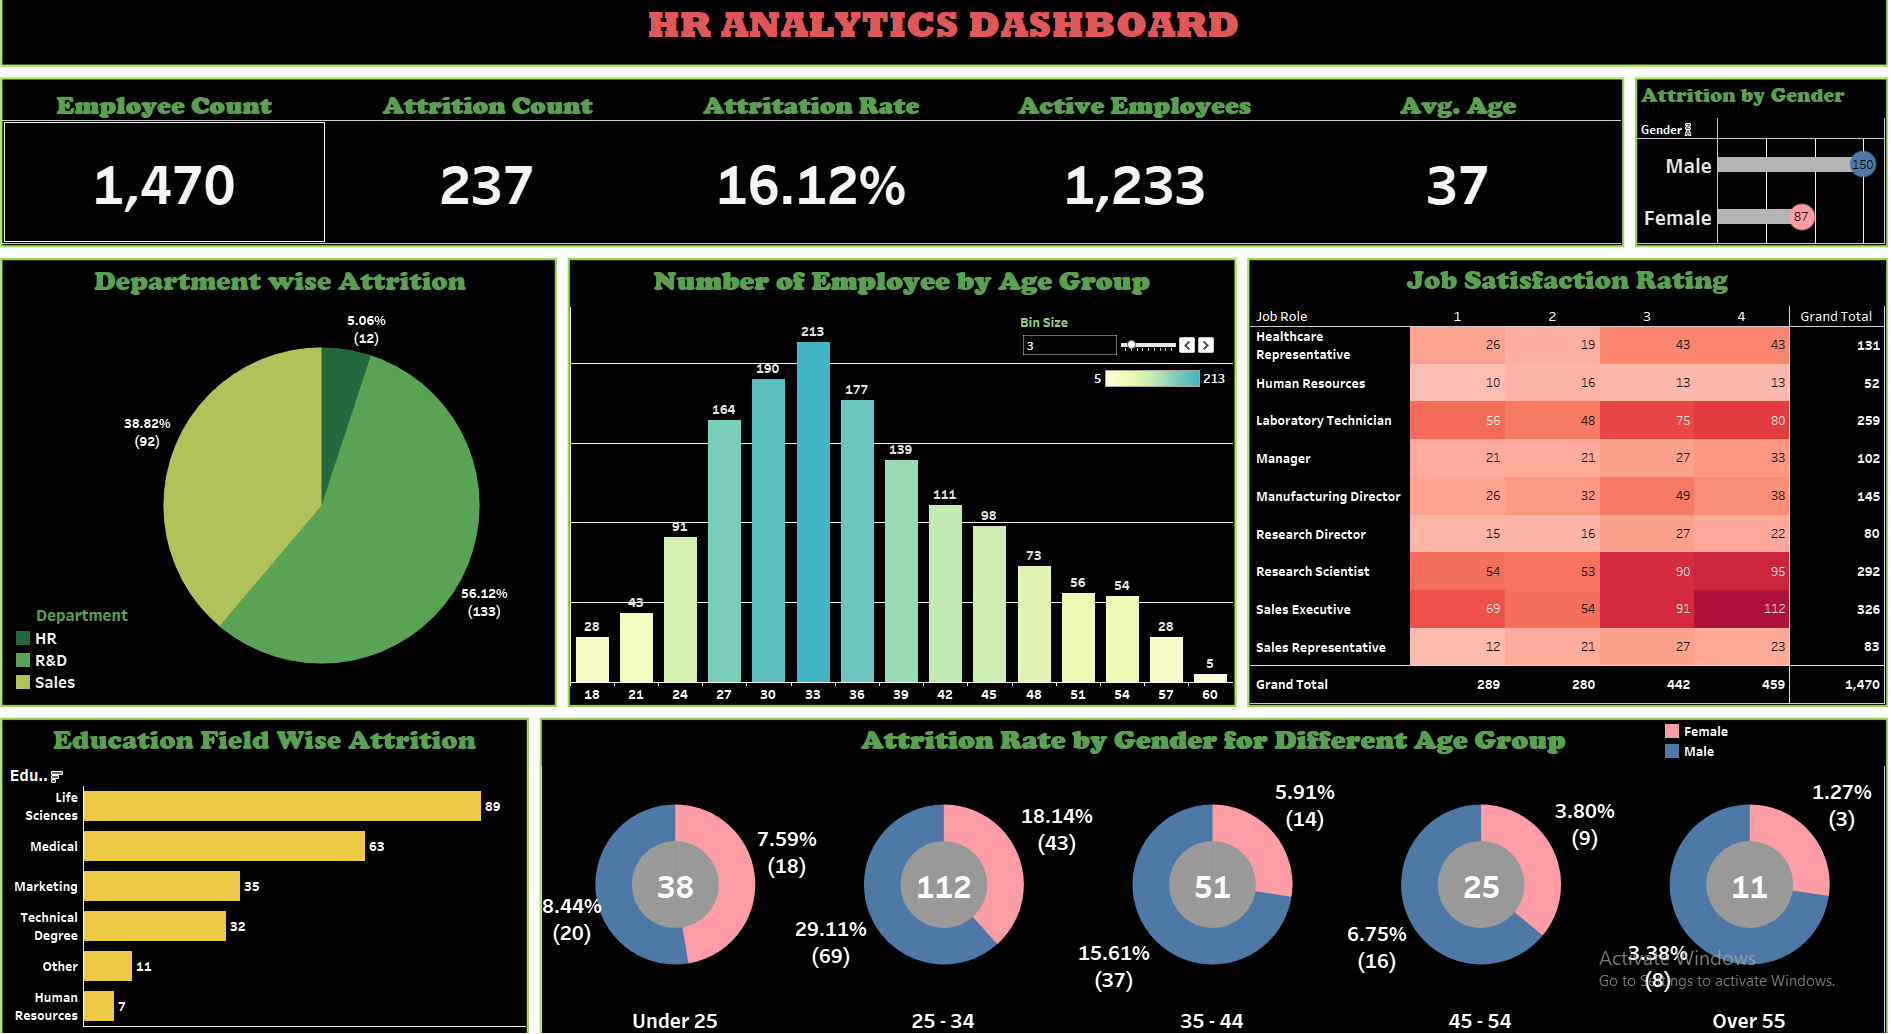

The page's visual inventory and layout, read from the dashboard file:
{"tool":"tableau","page":{"name":"HR Analytics","canvas":[1920,1080],"ordinal":0},"visuals":[{"type":"image","param":"C:/Users/iKkYu/Pictures/HR analysis.png","box":[8,8,1904,1064]},{"type":"text","box":[20,17,1879,75]},{"type":"worksheet","title":"KPI","mark":"Automatic","box":[18,110,1619,164]},{"type":"worksheet","title":"Sheet 2","mark":"Automatic","rows":["Gender"],"cols":["Calculation_600386151878664192","Calculation_600386151878664192"],"box":[1653,110,248,164]},{"type":"worksheet","title":"Sheet 5","mark":"Square","rows":["Job Role"],"cols":["Job Satisfaction"],"box":[1266,290,635,444]},{"type":"worksheet","title":"Sheet 3","mark":"Pie","box":[106,291,463,443]},{"type":"worksheet","title":"Sheet 4","mark":"Automatic","rows":["Employee Count"],"cols":["Age (bin)"],"box":[586,291,663,443]},{"type":"parameter","param":"[Parameters].[Parameter 1]","box":[1036,343,197,67]},{"type":"legend","title":"Sheet 4","param":"[federated.1pmpfoc03dv4wu1cz7yyl0i7q4dj].[sum:Employee Count:qk]","box":[1106,377,140,76]},{"type":"legend","title":"Sheet 3","param":"[federated.1pmpfoc03dv4wu1cz7yyl0i7q4dj].[none:Department:nk]","box":[28,634,140,94]},{"type":"worksheet","title":"Sheet 6","mark":"Automatic","rows":["Education Field"],"cols":["Calculation_600386151878664192"],"box":[19,750,523,315]},{"type":"worksheet","title":"Sheet 7","mark":"Pie","rows":["Calculation_600386151906013188","Calculation_600386151906013188"],"cols":["CF_age band"],"box":[557,750,1344,315]},{"type":"legend","title":"Sheet 7","param":"[federated.1pmpfoc03dv4wu1cz7yyl0i7q4dj].[none:Gender:nk]","box":[1678,751,222,69]}]}

Visuals, with their boxes in screenshot pixels (x1, y1, x2, y2), scaled from the page's 1920x1080 canvas onto the 1891x1034 screenshot:
image: 8, 8, 1883, 1026
text: 20, 16, 1870, 88
"KPI" worksheet: 18, 105, 1612, 262
"Sheet 2" worksheet: 1628, 105, 1872, 262
"Sheet 5" worksheet (Square marks): 1247, 278, 1872, 703
"Sheet 3" worksheet (Pie marks): 104, 279, 560, 703
"Sheet 4" worksheet: 577, 279, 1230, 703
parameter: 1020, 328, 1214, 393
"Sheet 4" legend: 1089, 361, 1227, 434
"Sheet 3" legend: 28, 607, 165, 697
"Sheet 6" worksheet: 19, 718, 534, 1020
"Sheet 7" worksheet (Pie marks): 549, 718, 1872, 1020
"Sheet 7" legend: 1653, 719, 1871, 785
